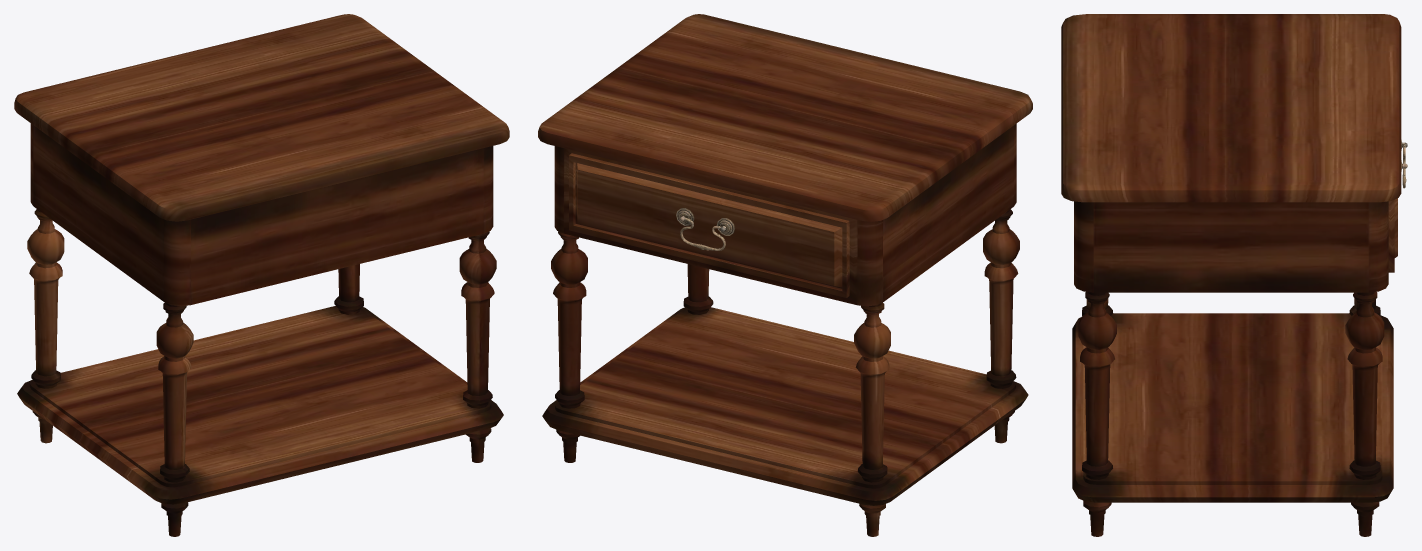
File: nightstand_bedside_wood_table_vintage_mismeirart.glb
3 renders of one model, left to right at view 1: azimuth 30°, elevation 25°; view 2: azimuth 150°, elevation 25°; view 3: azimuth 270°, elevation 25°, orthographic. The views are drawn at different scales.
Parts seen in each view (by area): view 1: Mesinha_Mesinha Gaveta_0; view 2: Mesinha_Mesinha Gaveta_0, Mesinha_Puxador Mesinha Gaveta_0; view 3: Mesinha_Mesinha Gaveta_0.
Part boxes in pixels (x1,y1,x2,y2): Mesinha_Mesinha Gaveta_0: (14, 14, 509, 536); Mesinha_Mesinha Gaveta_0: (538, 14, 1032, 536); Mesinha_Puxador Mesinha Gaveta_0: (676, 208, 734, 250); Mesinha_Mesinha Gaveta_0: (1061, 14, 1401, 536).
Bounding box in the file's own units: 0.7967 × 0.7434 × 0.6549.
2 materials, 2 textured.
